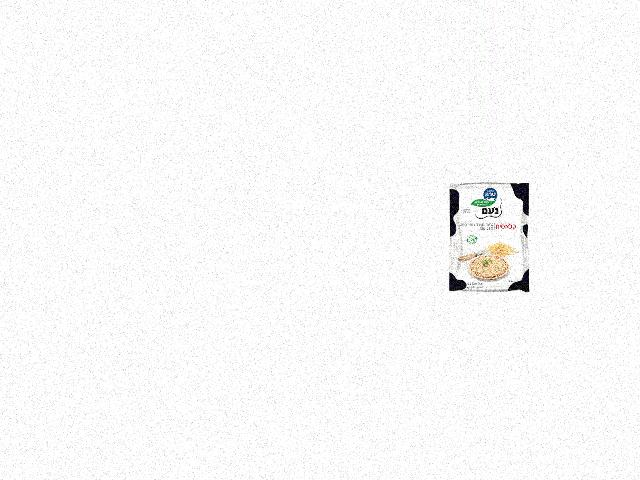cheese: (447, 182, 531, 294)
